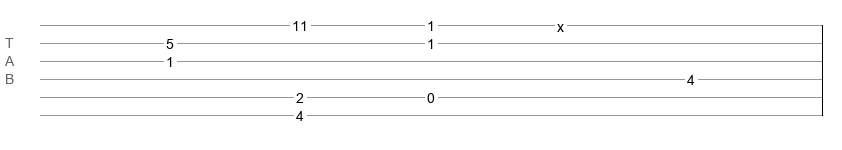0: (427, 90, 435, 100)
1: (166, 54, 174, 64), (427, 18, 435, 28), (427, 36, 435, 46)
11: (292, 18, 308, 28)
2: (296, 90, 304, 100)
4: (296, 108, 304, 118), (687, 72, 695, 82)
5: (166, 36, 174, 46)
x: (557, 19, 564, 27)
